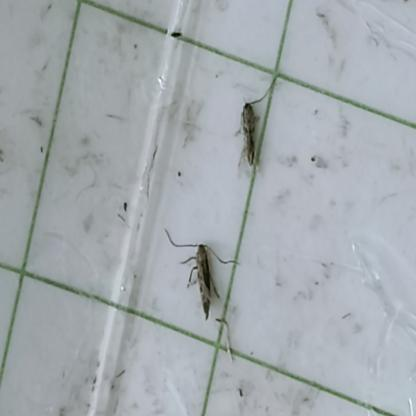prays_oleae: (220, 91, 276, 183), (190, 216, 224, 327)
